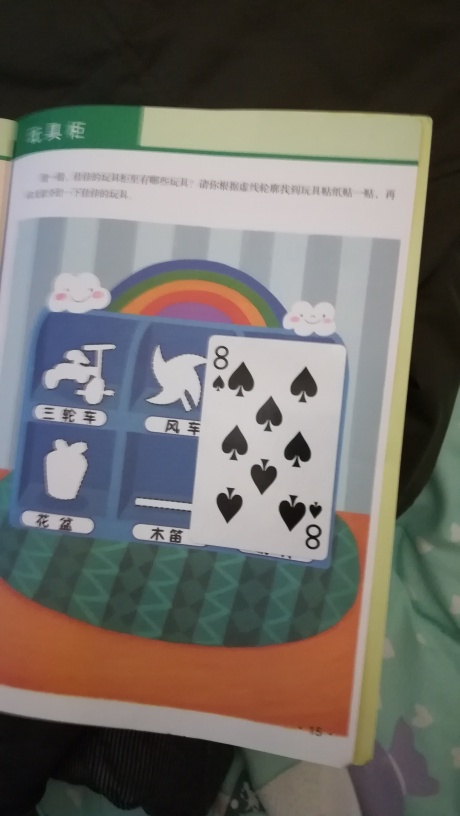ht 8: (184, 333, 346, 576)
